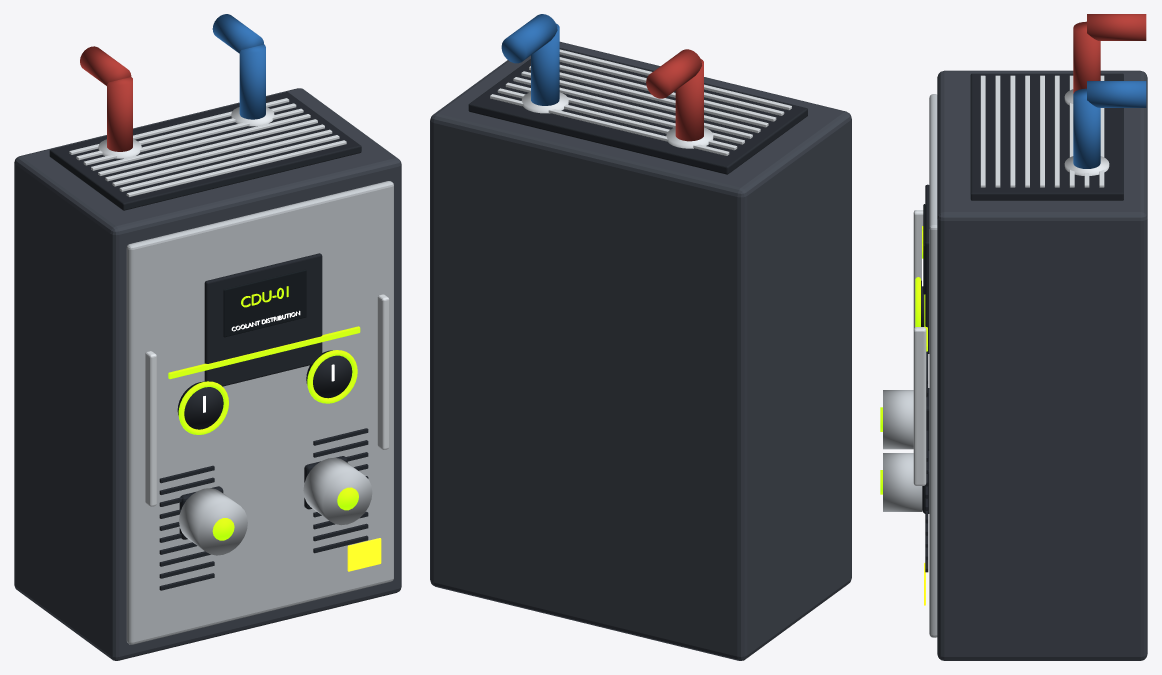
File: cdu.glb
3 views of the same model, side by side, from view 1: azimuth 30°, elevation 25°; view 2: azimuth 150°, elevation 25°; view 3: azimuth 270°, elevation 25° (orthographic). The views are drawn at different scales.
Parts seen in each view (by area): view 1: CDU_Asset; view 2: CDU_Asset; view 3: CDU_Asset.
Boxes of the visible parts, x1,y1,x2,y2 form: CDU_Asset: (14, 14, 401, 660); CDU_Asset: (430, 14, 851, 660); CDU_Asset: (880, 14, 1147, 660).
Size of the model in its own units: 1.4 by 2.41 by 1.08.
